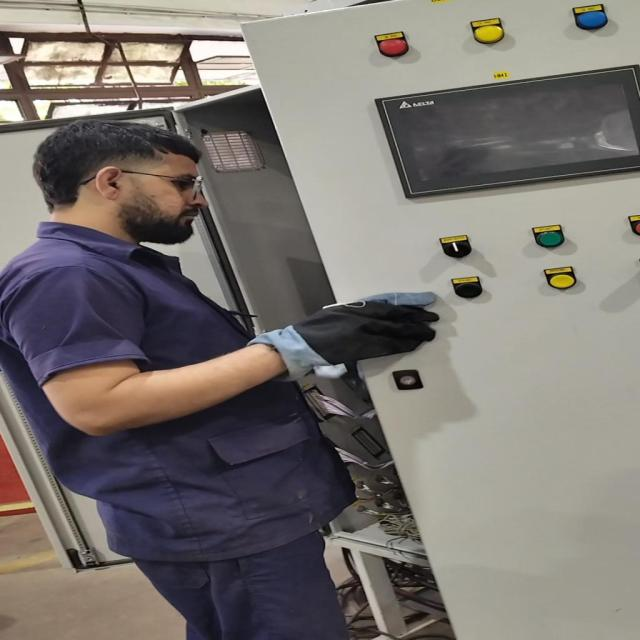Gloves-Detection: (249, 294, 457, 378)
